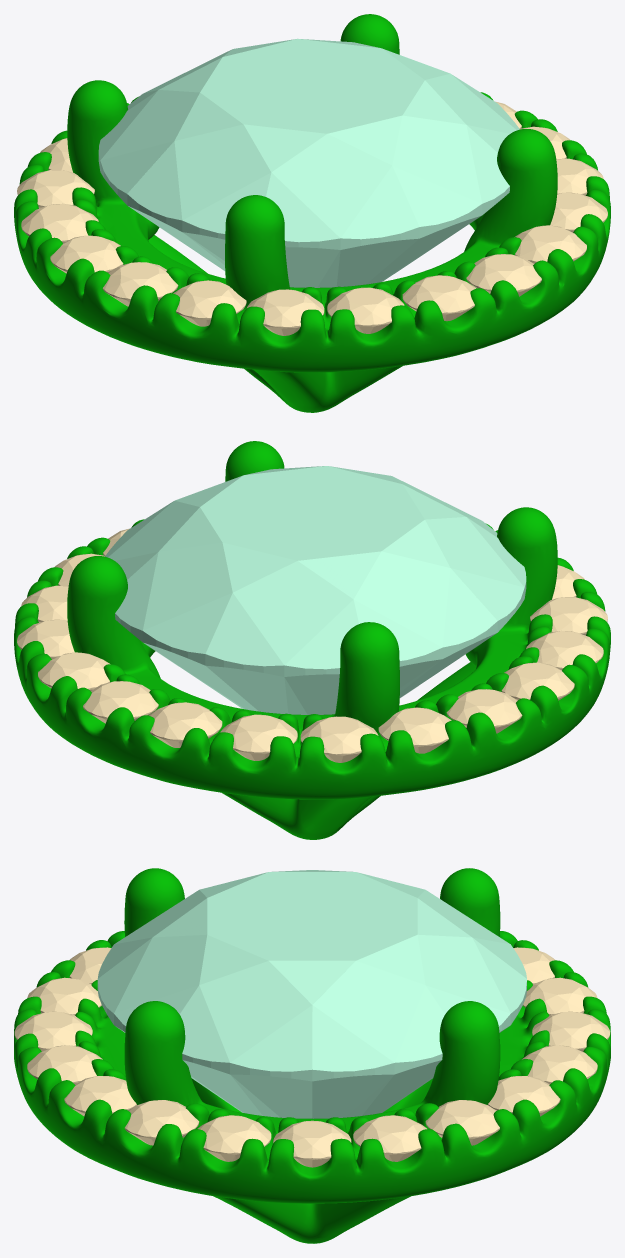
3 views of the same model, one above another, from view 1: azimuth 30°, elevation 25°; view 2: azimuth 150°, elevation 25°; view 3: azimuth 270°, elevation 25° (orthographic).
Visible parts, largest first — view 1: CS_Diamond, Metal01, Diamond_Round.010, Diamond_Round.009, Diamond_Round.011, Diamond_Round.008, Diamond_Round.012, Diamond_Round.013, Diamond_Round.015, Diamond_Round.007, Diamond_Round.014, Diamond_Round.016 (+3 smaller); view 2: CS_Diamond, Metal01, Diamond_Round.019, Diamond_Round.018, Diamond_Round.017, Diamond_Round, Diamond_Round.016, Diamond_Round.015, Diamond_Round.014, Diamond_Round.013, Diamond_Round.001, Diamond_Round.012 (+3 smaller); view 3: CS_Diamond, Metal01, Diamond_Round.003, Diamond_Round.005, Diamond_Round.002, Diamond_Round.006, Diamond_Round.004, Diamond_Round.009, Diamond_Round.019, Diamond_Round.008, Diamond_Round, Diamond_Round.001 (+5 smaller).
Part boxes in pixels (bbox=[...]): CS_Diamond: bbox=[98, 38, 519, 287]; Metal01: bbox=[14, 14, 610, 412]; Diamond_Round.010: bbox=[327, 287, 404, 333]; Diamond_Round.009: bbox=[402, 275, 475, 321]; Diamond_Round.011: bbox=[247, 289, 324, 335]; Diamond_Round.008: bbox=[466, 254, 541, 296]; Diamond_Round.012: bbox=[173, 280, 246, 326]; Diamond_Round.013: bbox=[102, 262, 178, 306]; Diamond_Round.015: bbox=[21, 203, 98, 243]; Diamond_Round.007: bbox=[514, 225, 586, 263]; Diamond_Round.014: bbox=[50, 235, 123, 273]; Diamond_Round.016: bbox=[17, 170, 94, 208]; CS_Diamond: bbox=[105, 466, 526, 714]; Metal01: bbox=[14, 441, 610, 839]; Diamond_Round.019: bbox=[149, 702, 222, 747]; Diamond_Round.018: bbox=[220, 714, 297, 760]; Diamond_Round.017: bbox=[300, 716, 378, 762]; Diamond_Round: bbox=[83, 681, 158, 723]; Diamond_Round.016: bbox=[378, 707, 451, 753]; Diamond_Round.015: bbox=[446, 689, 522, 733]; Diamond_Round.014: bbox=[501, 662, 574, 700]; Diamond_Round.013: bbox=[526, 630, 603, 670]; Diamond_Round.001: bbox=[38, 652, 110, 690]; Diamond_Round.012: bbox=[530, 597, 607, 635]; CS_Diamond: bbox=[97, 870, 526, 1118]; Metal01: bbox=[14, 868, 610, 1243]; Diamond_Round.003: bbox=[353, 1115, 426, 1161]; Diamond_Round.005: bbox=[197, 1115, 271, 1161]; Diamond_Round.002: bbox=[425, 1100, 499, 1145]; Diamond_Round.006: bbox=[124, 1100, 199, 1145]; Diamond_Round.004: bbox=[273, 1120, 351, 1167]; Diamond_Round.009: bbox=[14, 1011, 92, 1051]; Diamond_Round.019: bbox=[532, 1011, 610, 1051]; Diamond_Round.008: bbox=[27, 1045, 102, 1084]; Diamond_Round: bbox=[522, 1045, 597, 1084]; Diamond_Round.001: bbox=[488, 1076, 560, 1116].
Size of the model in its own units: 13.01 by 7.74 by 13.
